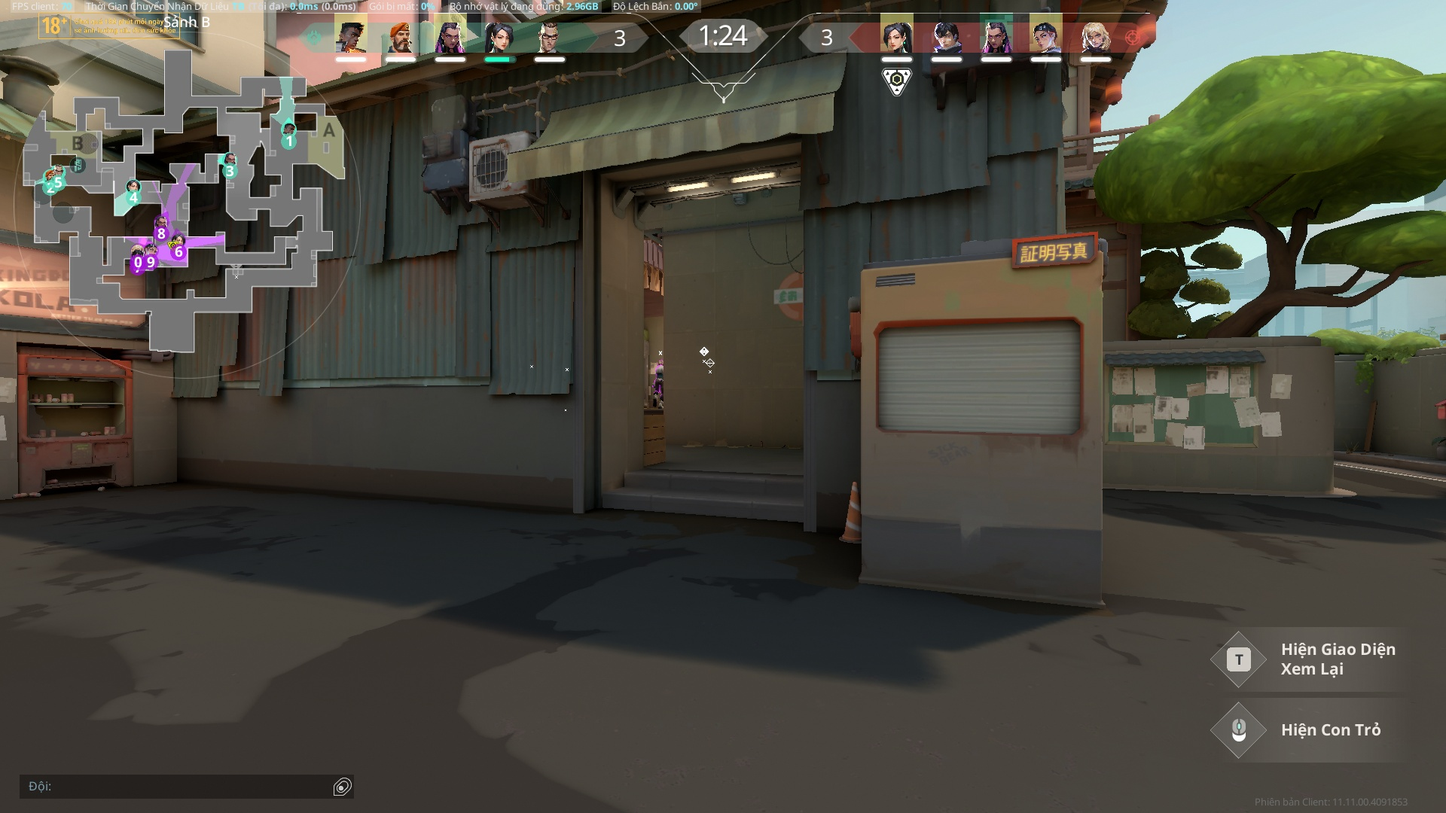body: (654, 364, 664, 379)
head: (657, 359, 664, 364)
